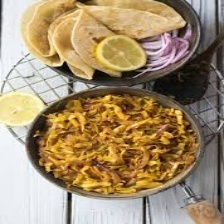roti: (19, 1, 186, 79)
